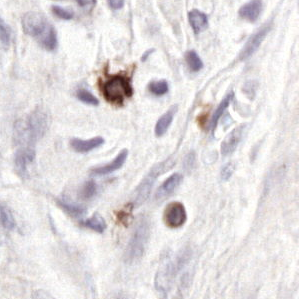Lymphocyte: (98, 67, 135, 105)
